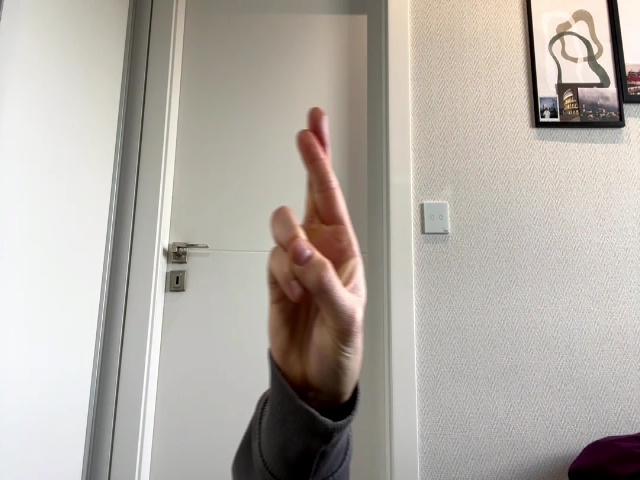R: (268, 108, 367, 391)
